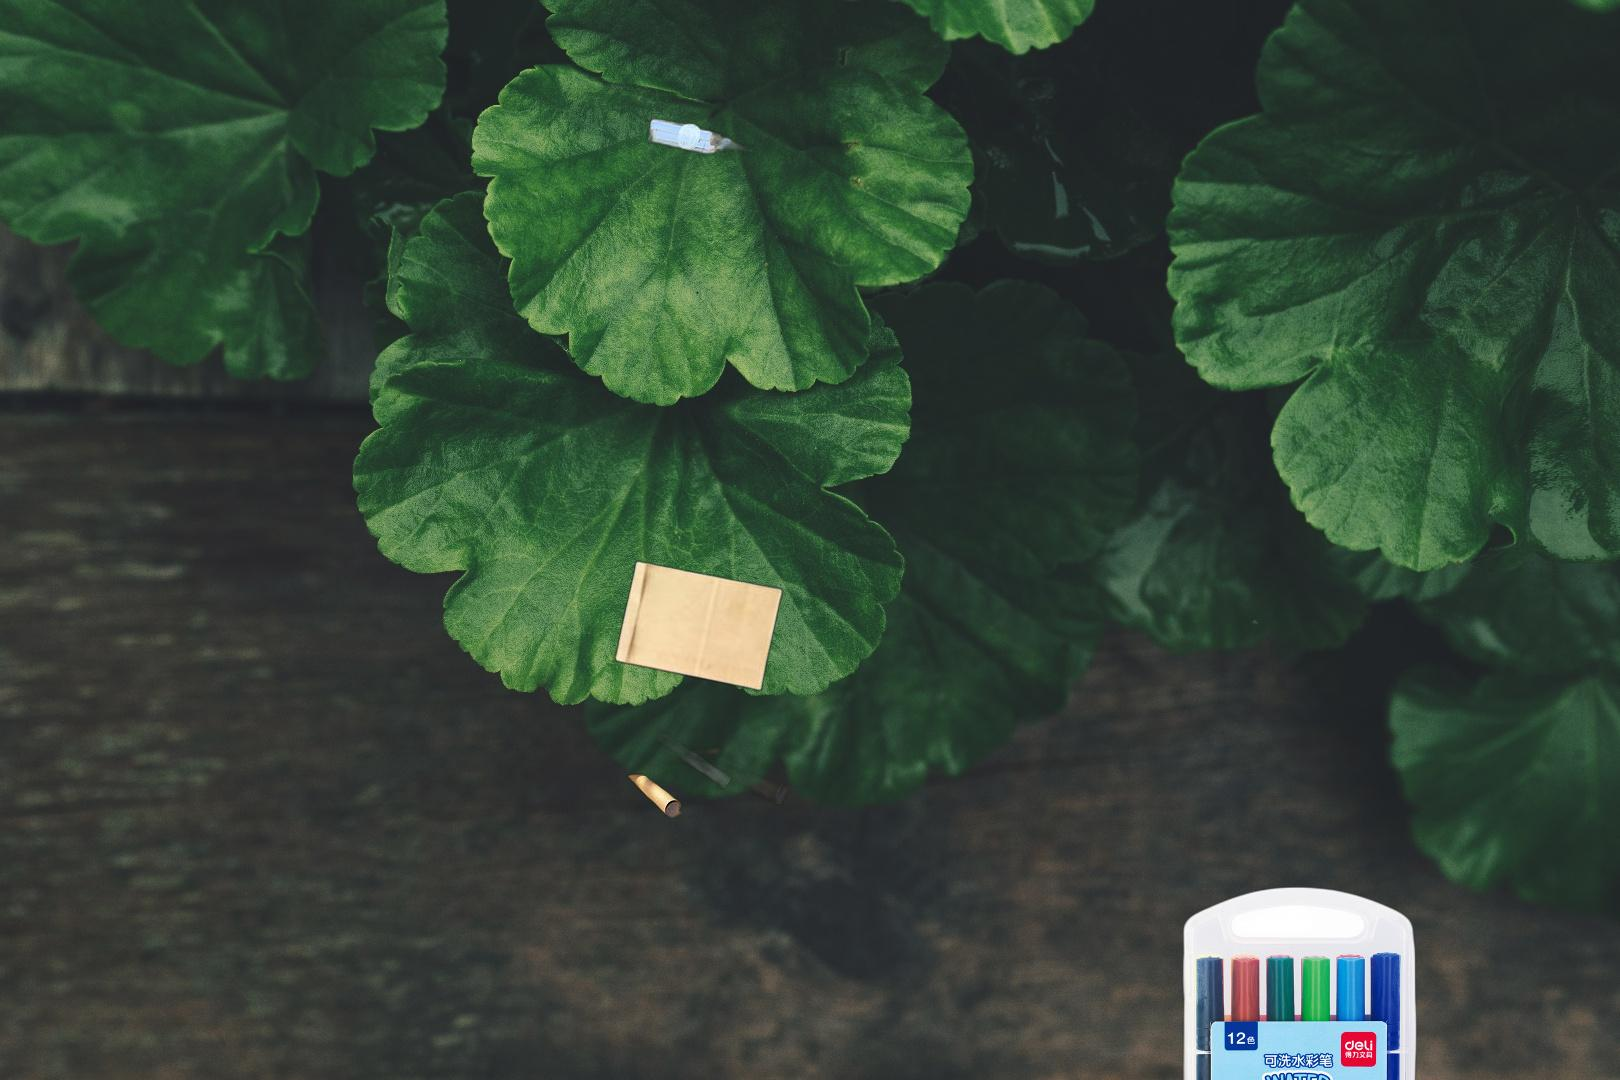glass: (429, 113, 758, 510)
paper-bag: (493, 557, 786, 806)
penholder: (1099, 885, 1419, 1080)
trashbox-cardboard: (571, 694, 787, 822)
